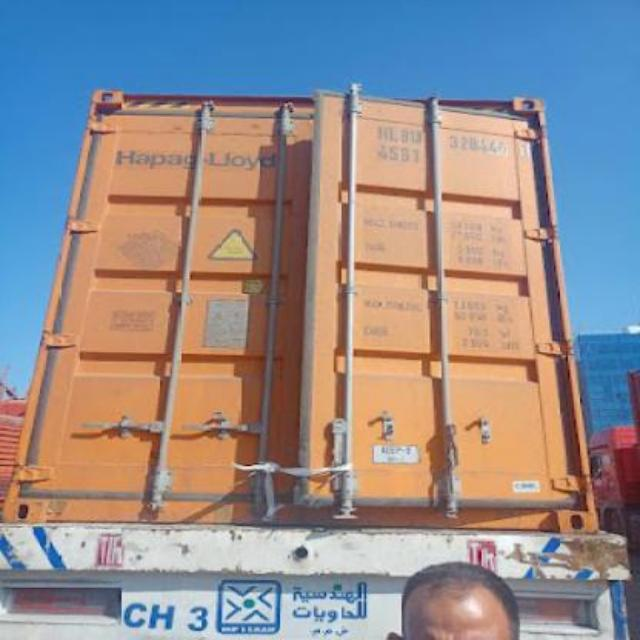1: (520, 138, 530, 160)
2: (458, 130, 468, 154)
3: (446, 132, 458, 152)
4: (478, 136, 488, 158), (488, 136, 498, 158)
6: (498, 134, 508, 158)
8: (468, 132, 478, 156)
B: (400, 122, 410, 144)
H: (374, 115, 386, 141)
L: (386, 122, 399, 144)
U: (410, 123, 422, 147)
